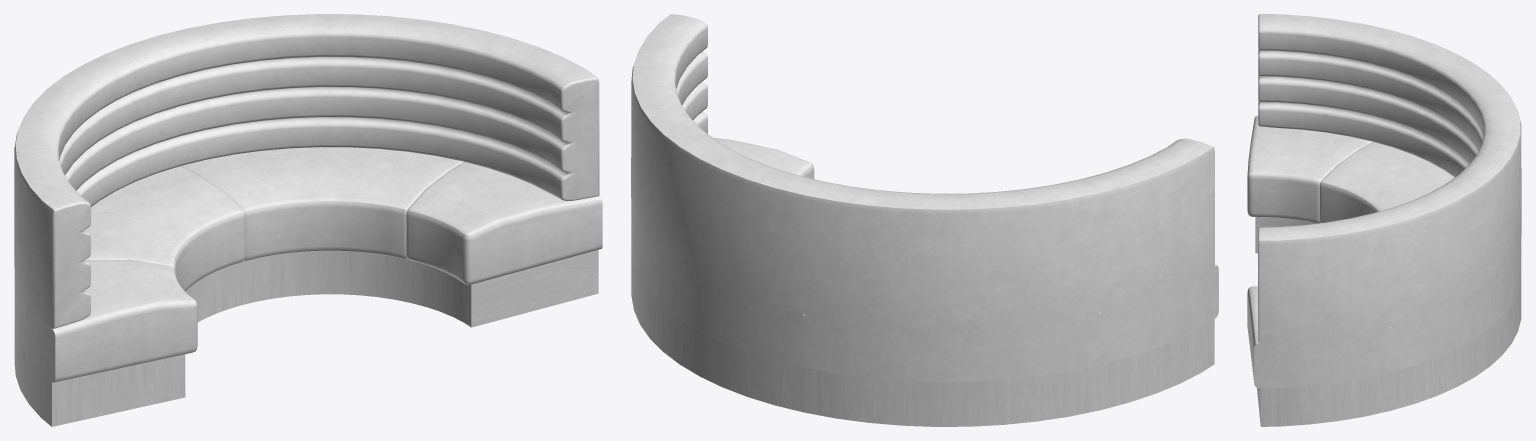
The model's file is Sofa02.FBX.
3 renders of one model, left to right at view 1: azimuth 30°, elevation 25°; view 2: azimuth 150°, elevation 25°; view 3: azimuth 270°, elevation 25°, orthographic. The views are drawn at different scales.
Visible parts, largest first — view 1: Sofa02; view 2: Sofa02; view 3: Sofa02.
Boxes of the visible parts, bbox=[...] form: Sofa02: bbox=[14, 14, 602, 426]; Sofa02: bbox=[631, 14, 1218, 426]; Sofa02: bbox=[1247, 14, 1521, 426].
Size of the model in its own units: 326 by 125 by 166.
